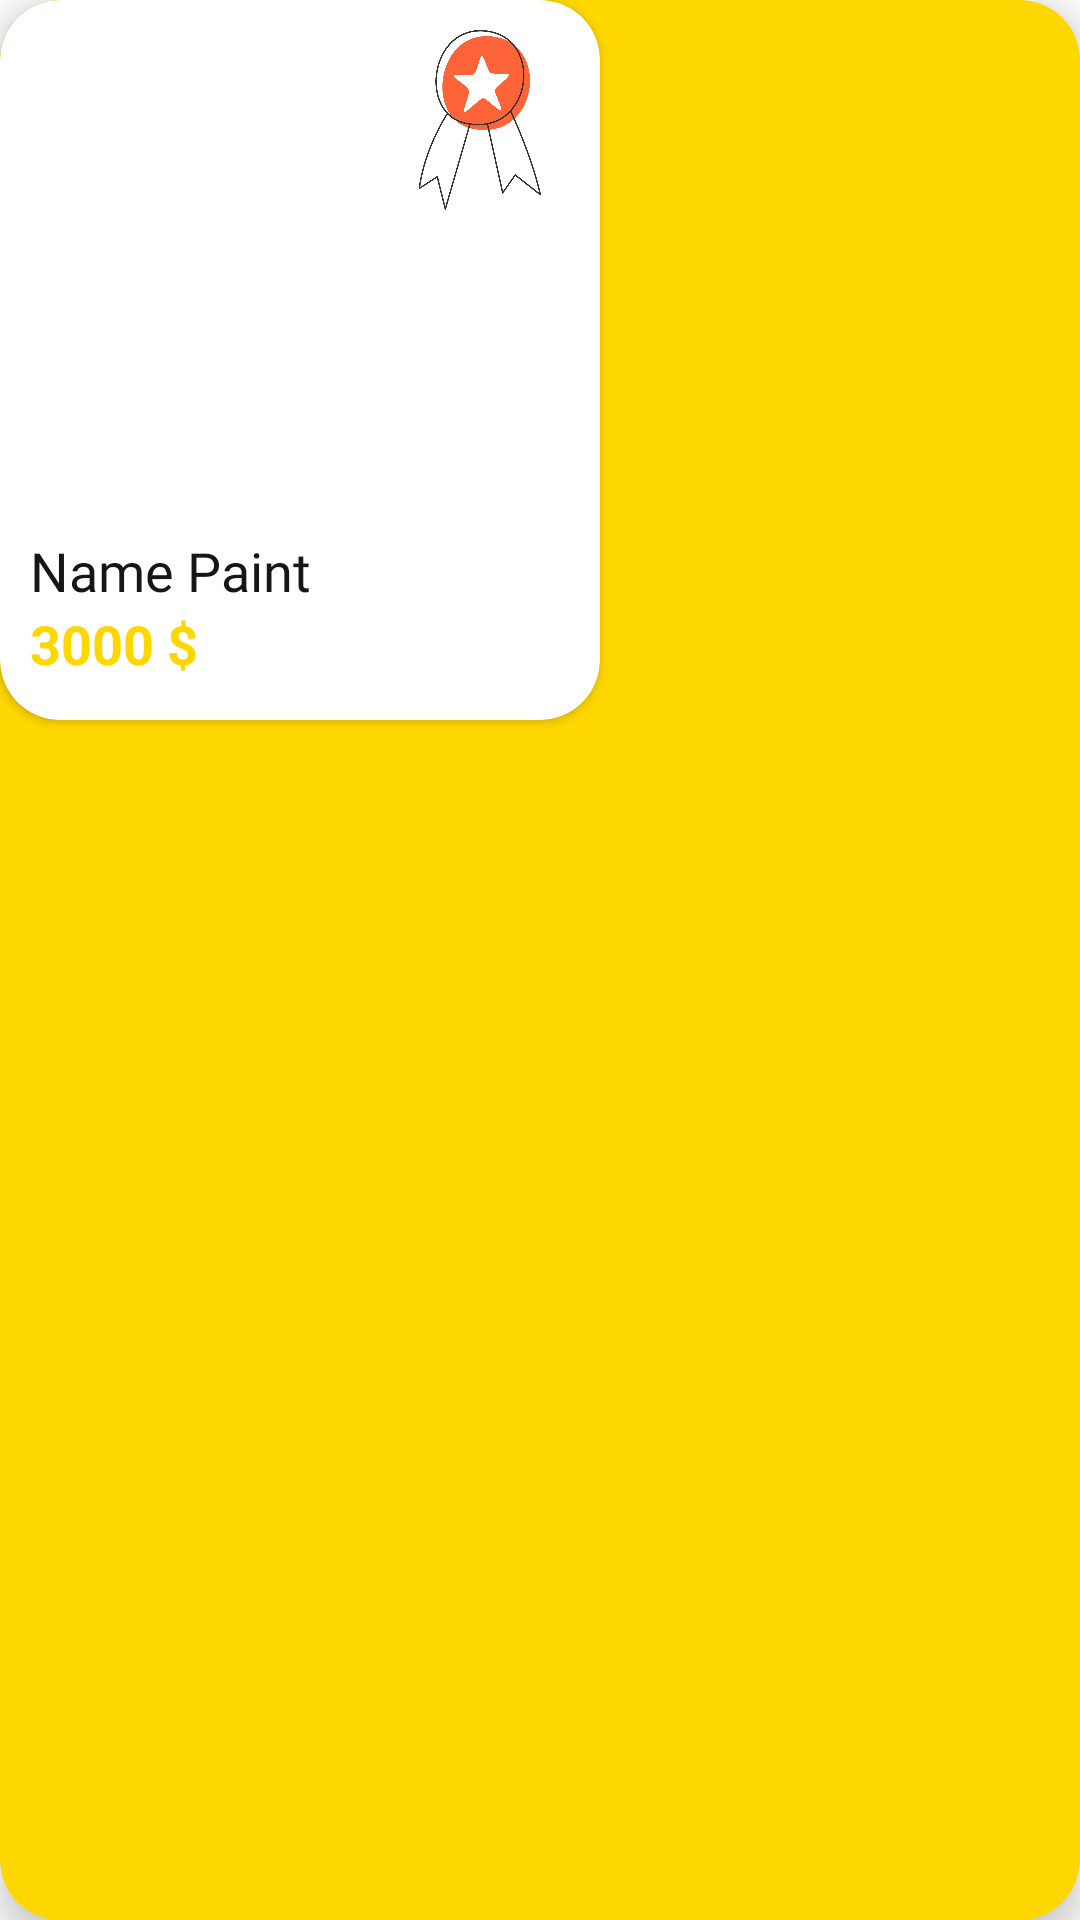

Icons on this 1080x1920 Android screen, each with its box as bbox=(x1, y1, x2, y2):
ranked: bbox=(419, 30, 541, 210)
